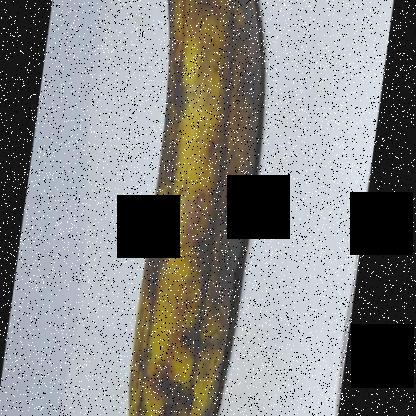overripe: (106, 1, 277, 415)
